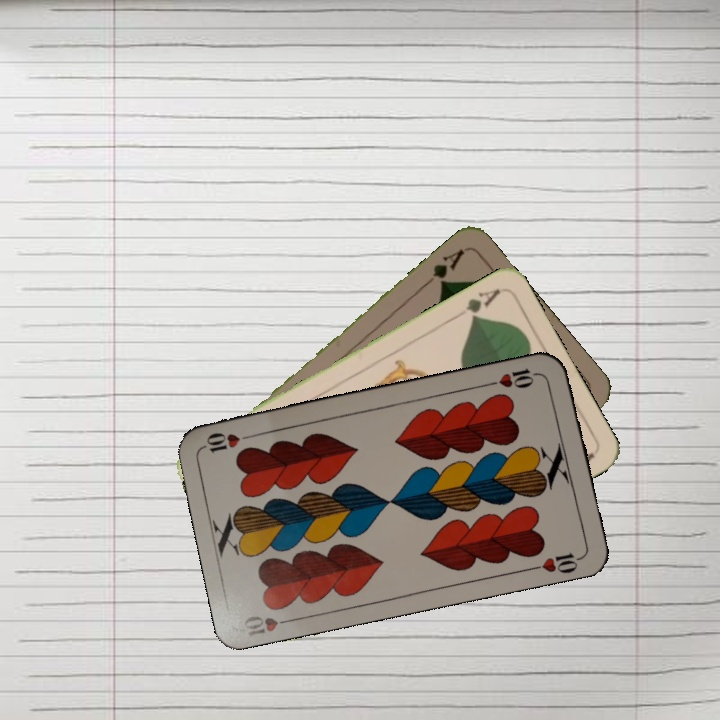GA: (419, 244, 467, 290), (450, 284, 504, 323)
H10: (239, 611, 299, 639), (485, 364, 544, 391)
